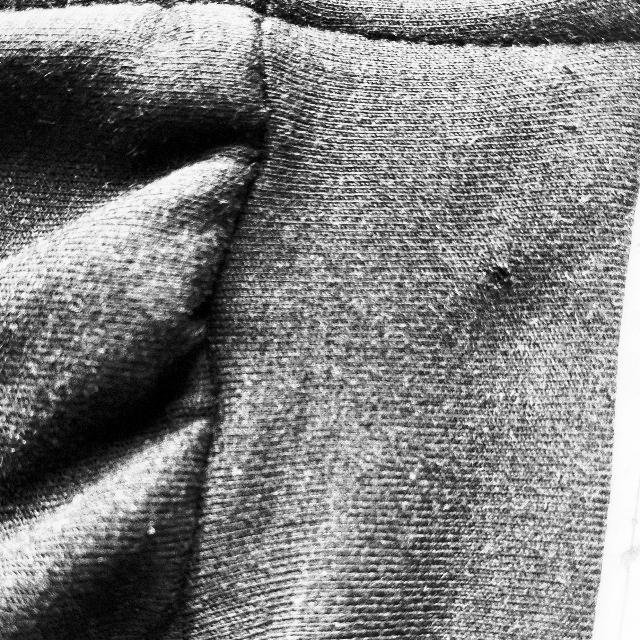Hole: (473, 251, 527, 309)
